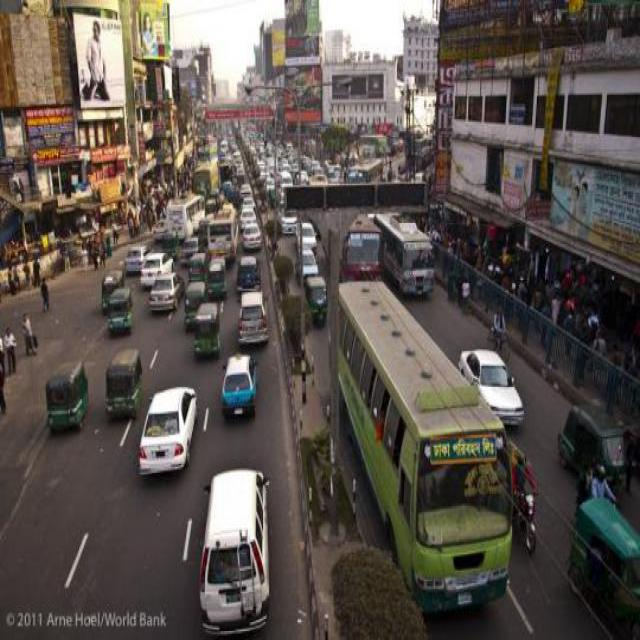bike: (512, 483, 539, 552), (484, 325, 510, 359)
vehicle: (330, 277, 513, 615), (197, 466, 270, 633), (567, 496, 639, 636), (559, 399, 628, 490), (139, 384, 198, 476), (458, 348, 524, 428), (375, 210, 435, 293), (44, 357, 89, 433), (103, 346, 143, 419), (219, 349, 258, 417), (341, 217, 383, 277), (189, 298, 221, 359), (237, 287, 267, 346), (167, 193, 204, 238), (207, 204, 239, 254), (148, 271, 184, 311), (105, 288, 133, 333), (139, 251, 173, 287), (305, 274, 327, 326), (184, 281, 205, 326), (345, 157, 384, 181), (206, 254, 227, 298), (101, 267, 124, 306), (192, 160, 219, 193), (237, 256, 261, 287), (122, 243, 146, 270), (294, 220, 317, 247), (241, 220, 262, 247), (188, 252, 206, 279), (300, 248, 318, 274), (150, 216, 166, 237), (240, 204, 257, 221), (242, 194, 255, 204)
